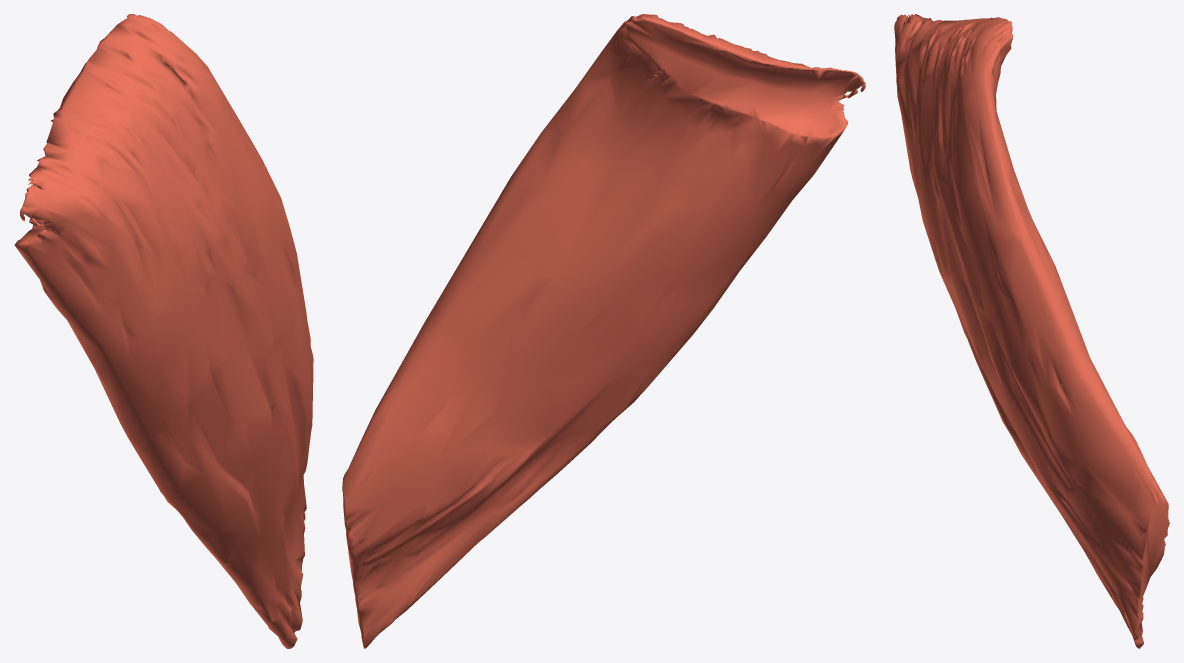
Rendered from pectineus.glb.
The picture shows the model from 3 angles, left to right: view 1: azimuth 30°, elevation 25°; view 2: azimuth 150°, elevation 25°; view 3: azimuth 270°, elevation 25°; orthographic projection. The views are drawn at different scales.
Visible parts, largest first — view 1: Pectineus muscle.l; view 2: Pectineus muscle.l; view 3: Pectineus muscle.l.
Boxes of the visible parts, <box> form: Pectineus muscle.l: <box>14,14,313,648</box>; Pectineus muscle.l: <box>342,14,865,648</box>; Pectineus muscle.l: <box>894,14,1169,648</box>.
Size of the model in its own units: 0.0828 by 0.1314 by 0.0607.
